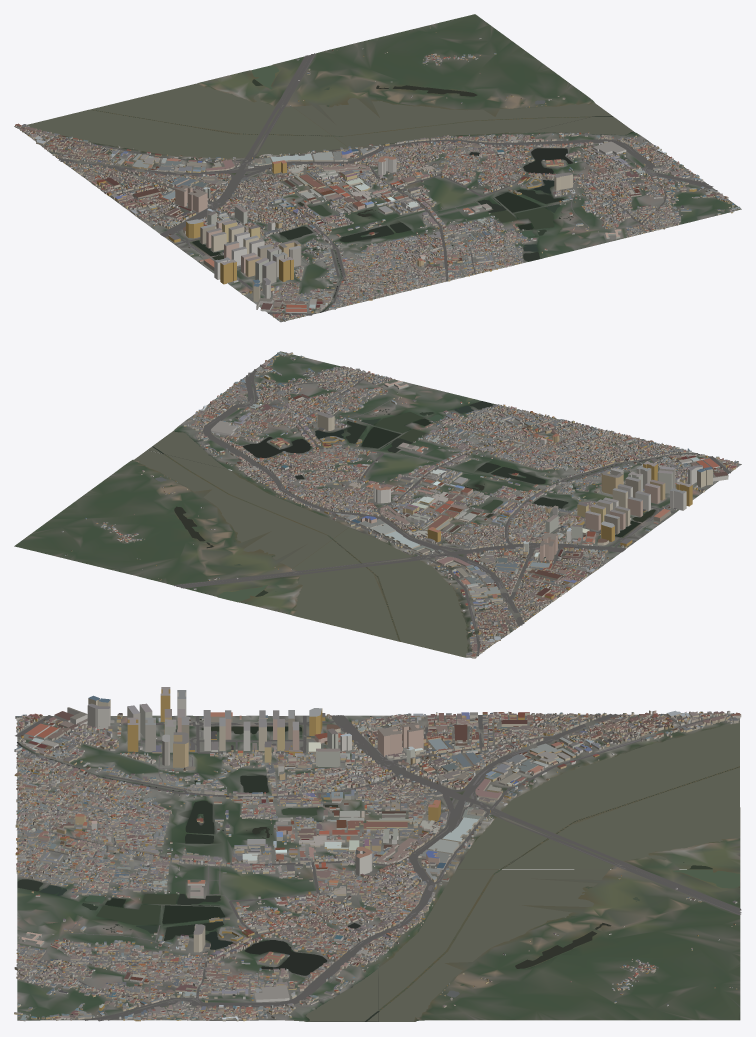
3 renders of one model, top to bottom at view 1: azimuth 30°, elevation 25°; view 2: azimuth 150°, elevation 25°; view 3: azimuth 270°, elevation 25°, orthographic. The views are drawn at different scales.
Visible parts, largest first — view 1: buildings, ground, water, roads; view 2: buildings, ground, water, roads; view 3: ground, buildings, water, roads.
Part boxes in pixels (x1,y1,x2,y2): buildings: [15, 25, 740, 321]; ground: [14, 14, 741, 322]; water: [27, 65, 633, 312]; roads: [16, 53, 717, 315]; buildings: [61, 351, 739, 658]; ground: [14, 351, 741, 658]; water: [135, 401, 701, 657]; roads: [124, 369, 730, 656]; ground: [17, 713, 740, 1021]; buildings: [14, 687, 741, 1021]; water: [17, 716, 739, 1021]; roads: [15, 713, 741, 1021].
Size of the model in its own units: 2845 by 123 by 2823.
